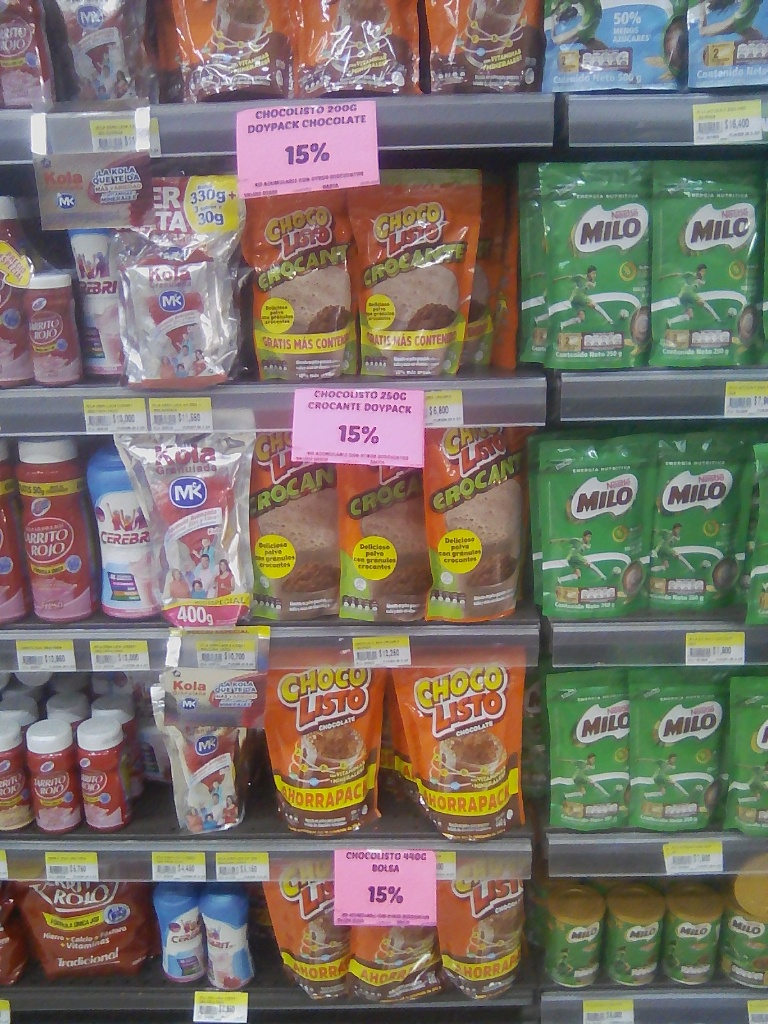COL0170103DYP44000: (265, 649, 381, 835)
COL0170203LAT20000: (537, 886, 600, 990)
COL0170203LAT40000: (712, 871, 766, 990)
